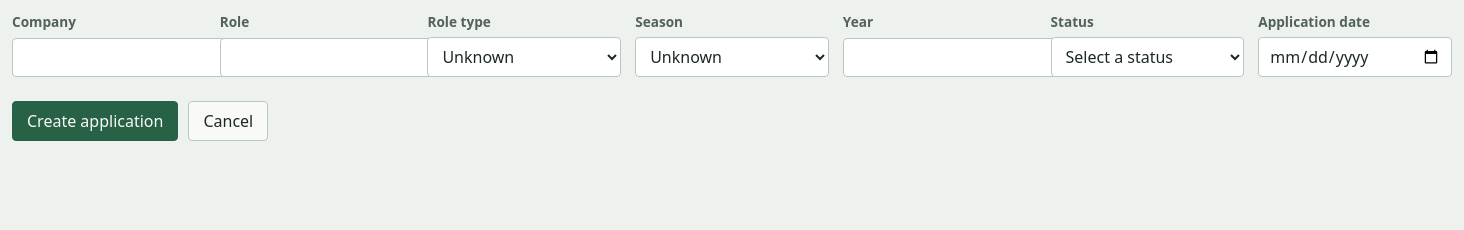
Test case: does not default the status
The image size is (1464, 230).
Step 1. Type "Acme" into the field labelled "Company" → (138, 58), box 12,38 -> 265,77
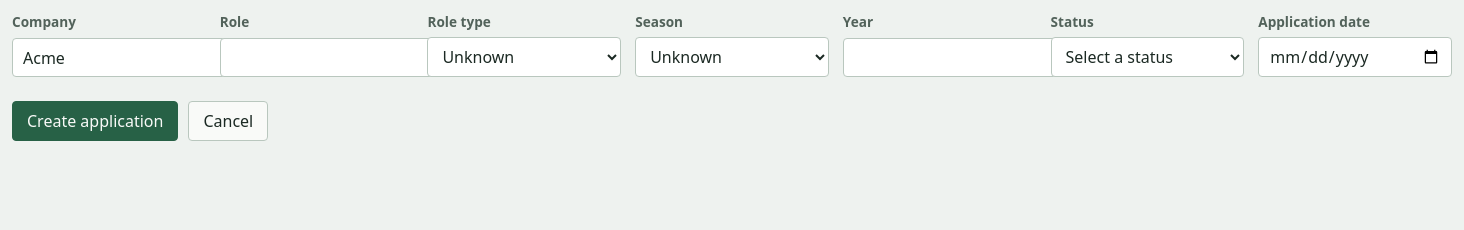
Step 2. Type "Software Engineer Intern" into the field labelled "Role" → (346, 58), box 220,38 -> 473,77
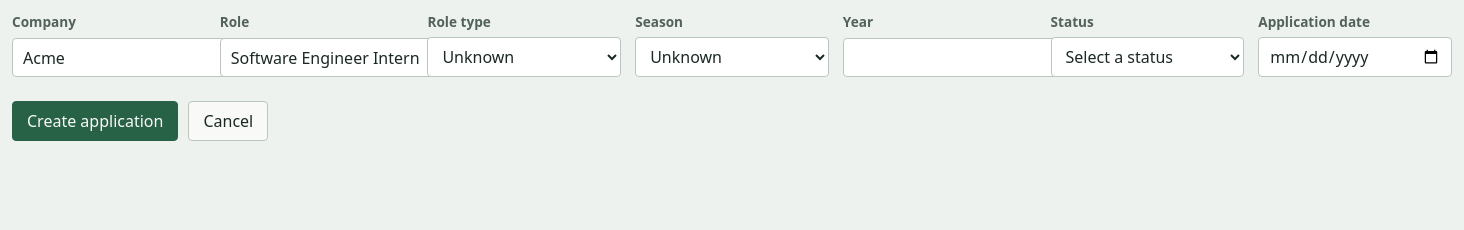
Step 3. Click the button "Create application" → (95, 121), box 12,101 -> 178,141
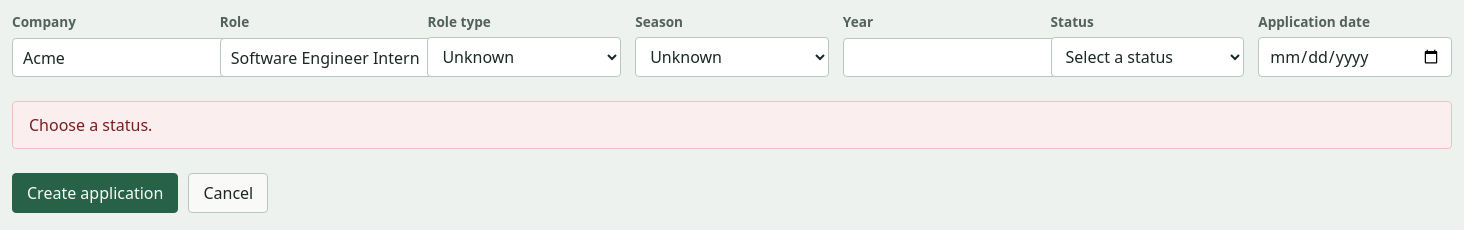
Check: the message reads "Choose a status.", box 29,114 -> 152,136
